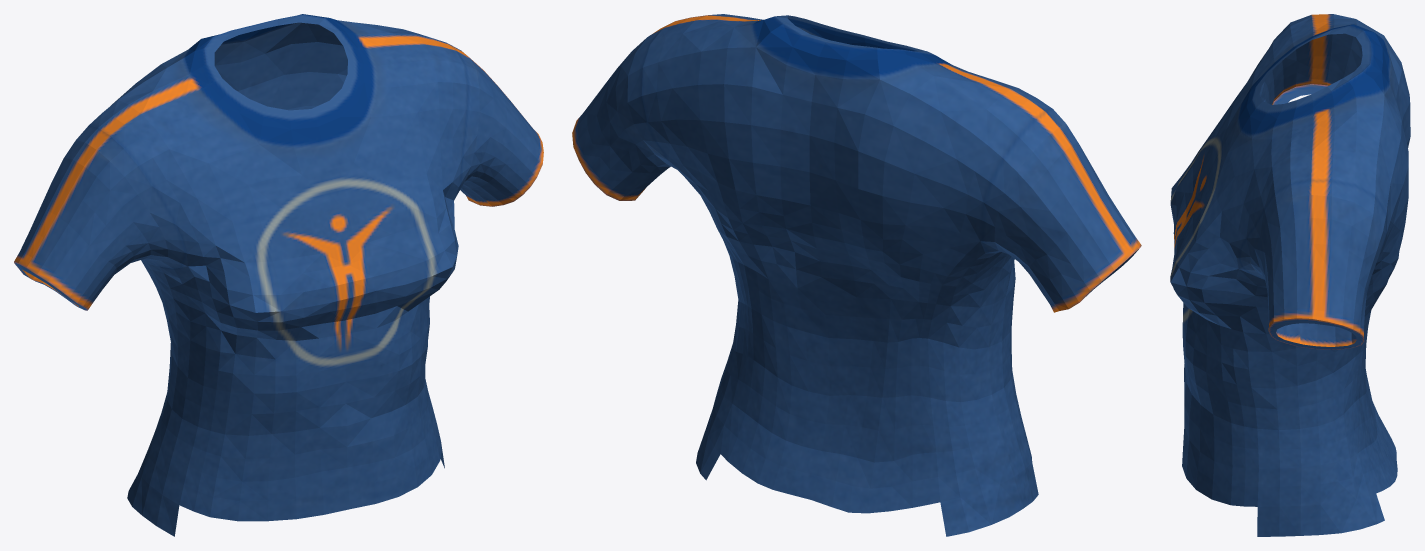
The model's file is shirt.obj.
The picture shows the model from 3 angles, left to right: view 1: azimuth 30°, elevation 25°; view 2: azimuth 150°, elevation 25°; view 3: azimuth 270°, elevation 25°; orthographic projection. The views are drawn at different scales.
Parts seen in each view (by area): view 1: shirt; view 2: shirt; view 3: shirt.
Part boxes in pixels (x1,y1,x2,y2): shirt: (14,14,543,536); shirt: (572,14,1141,536); shirt: (1170,14,1410,536).
Size of the model in its own units: 54.1 by 44 by 22.63.
1 material, 1 textured.
